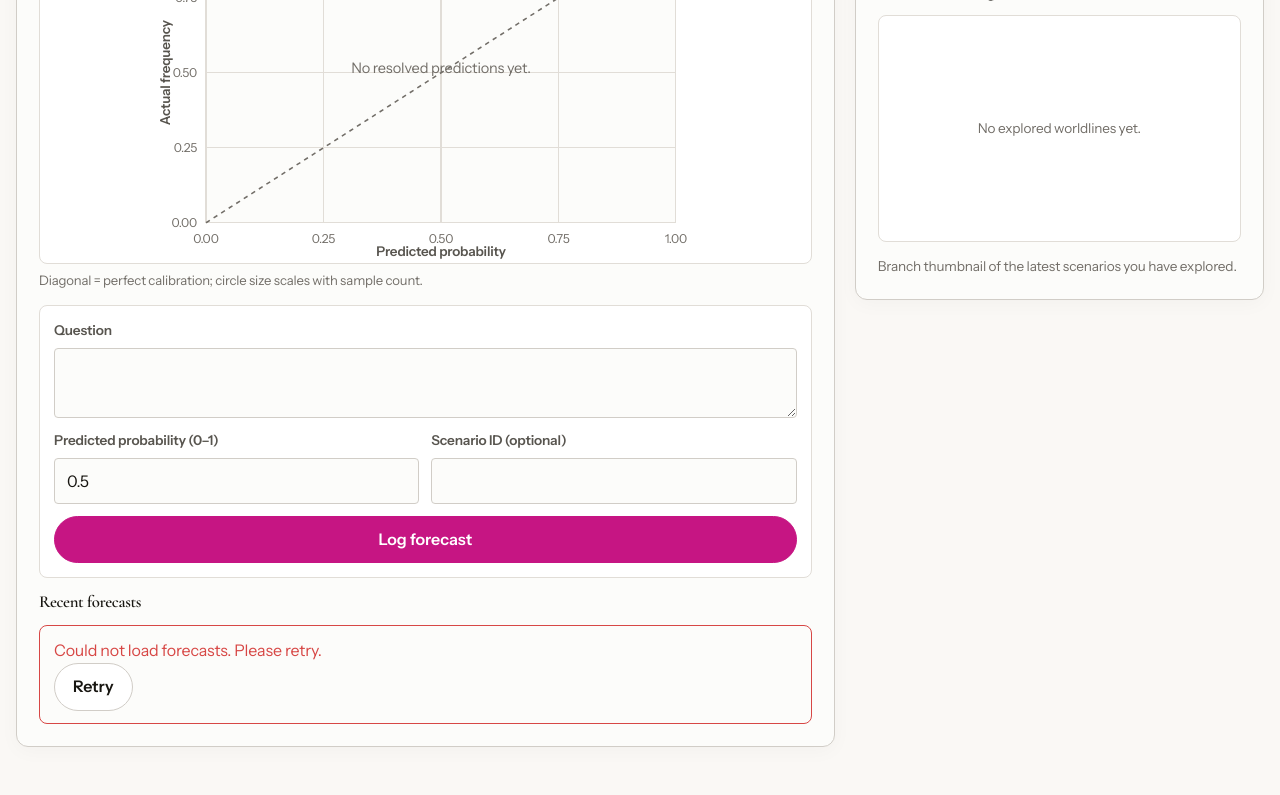
Test: PersonalJournalView › blocks the empty state on load failure and retries fetchAll
The image size is (1280, 795).
(page scrolled)
Expected: the message "Could not load forecasts. Please retry. Retry" is shown, [39,625,812,724]
Expected: the text "No forecasts yet. Log your first prediction above." is not shown
Click the button "Retry": (93, 687) [54,663,133,711]
(page scrolled)
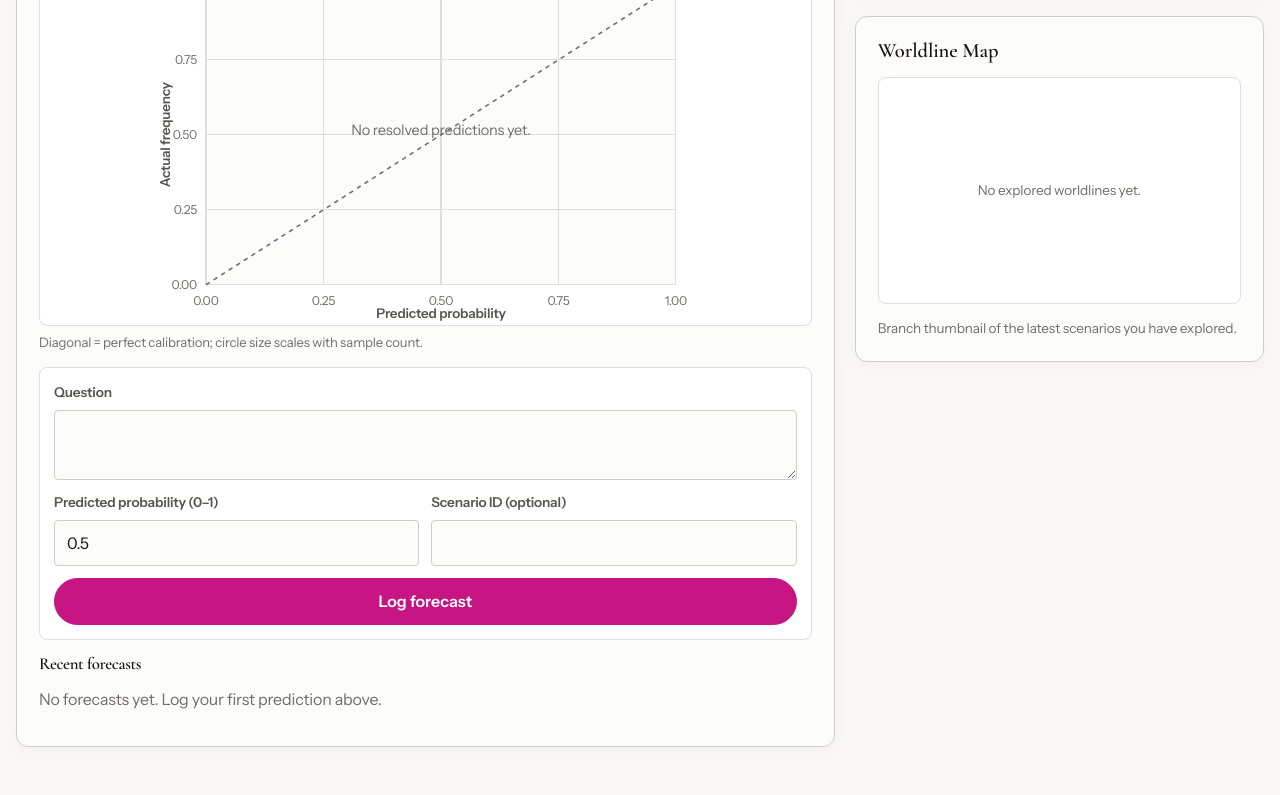
Expected: the text "No forecasts yet. Log your first prediction above." is shown, [39,689,382,709]
